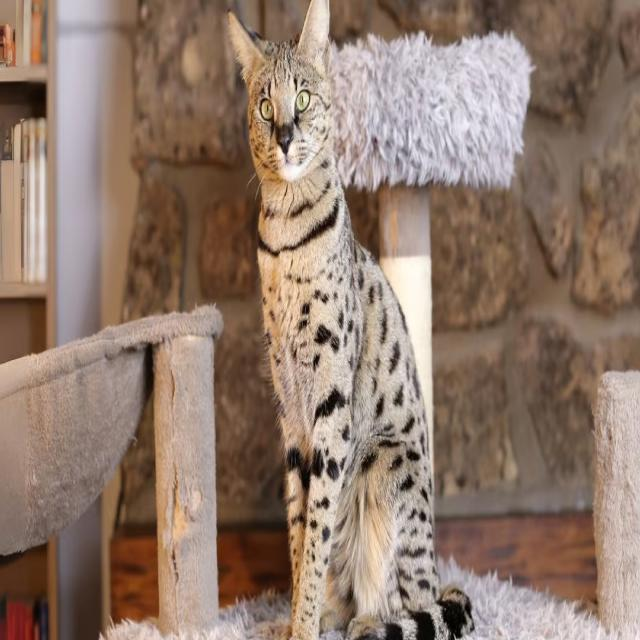Savannah: (225, 0, 479, 640)
